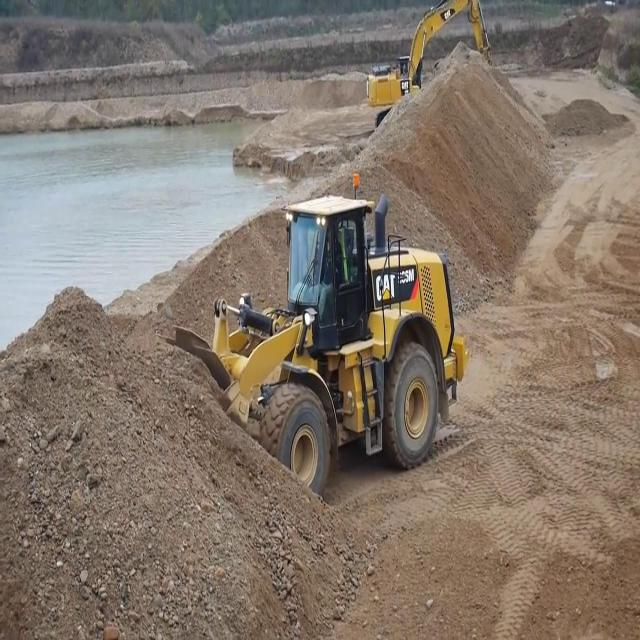Excavator: (364, 0, 493, 132)
Loader: (174, 169, 471, 495)
